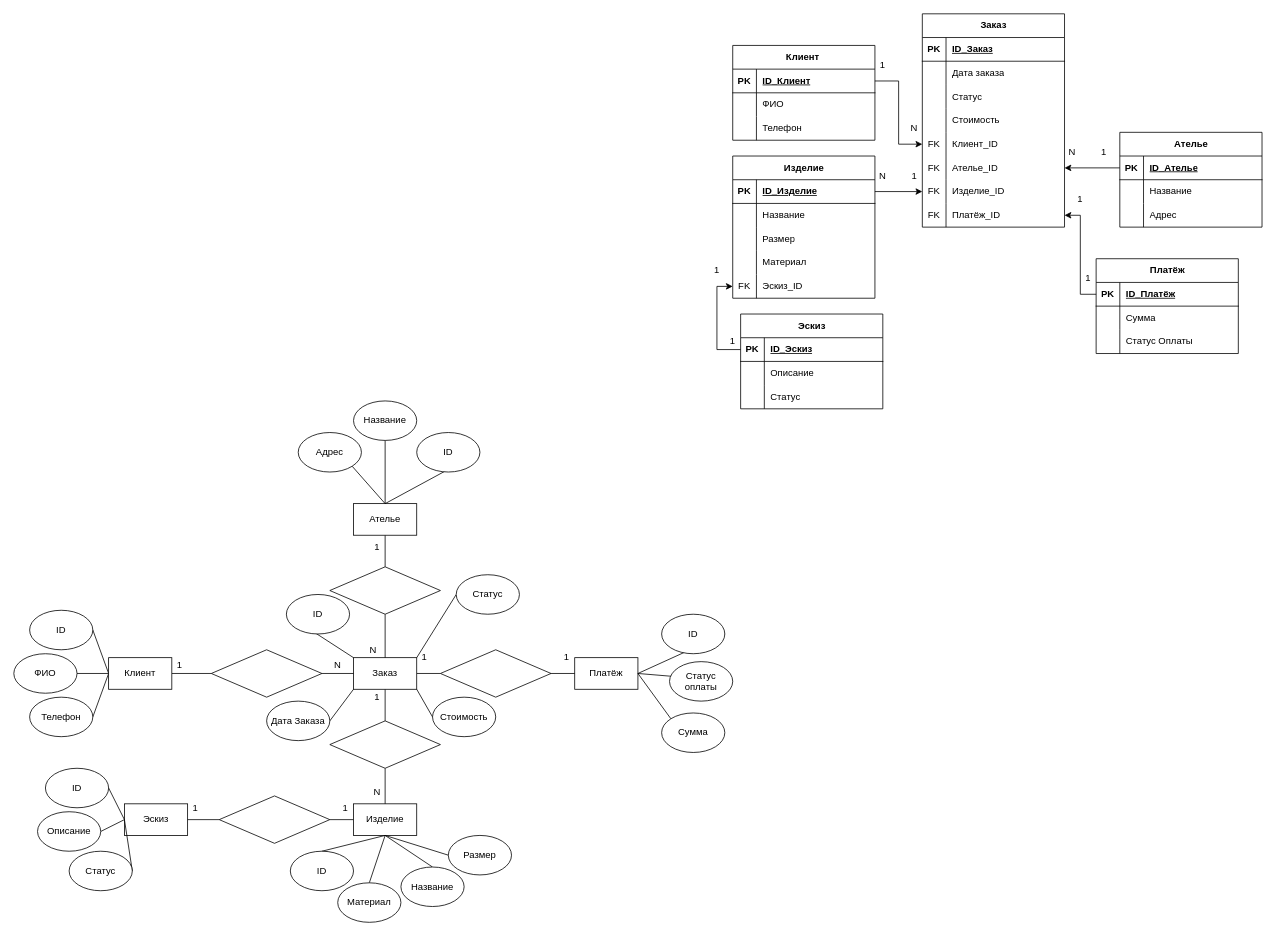
The diagram is 1276 pixels wide and 936 high, and some of its shapes have lost their labels. The centre of each missing label's shape, as x and y in pixels:
"Включает" belongs at pixel 495 673.
"Описывает" belongs at pixel 274 819.
"Оформляет" belongs at pixel 266 673.
"Принимает" belongs at pixel 384 590.
"Содержит" belongs at pixel 384 744.
